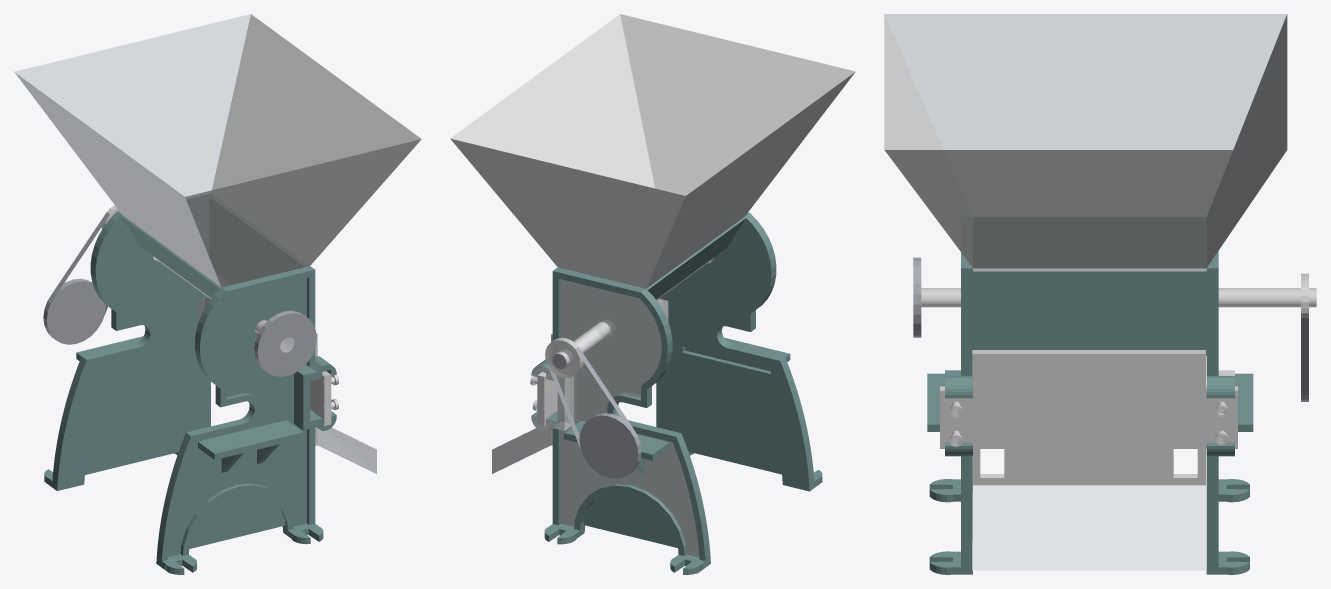
Rendered from Despulpadora.glb.
The picture shows the model from 3 angles, left to right: view 1: azimuth 30°, elevation 25°; view 2: azimuth 150°, elevation 25°; view 3: azimuth 270°, elevation 25°; orthographic projection. The views are drawn at different scales.
Parts seen in each view (by area): view 1: Node908, Node906, Node879, Node611, Node620, Node612, Node141, Node873, Node188, Node287, Node57, Node22 (+10 smaller); view 2: Node611, Node160, Node908, Node906, Node901, Node879, Node612, Node641, Node744, Node880, Node65, Node903 (+7 smaller); view 3: Node612, Node908, Node922, Node904, Node602, Node134, Node611, Node906, Node791, Node600, Node763, Node334 (+6 smaller).
Boxes of the visible parts, x1,y1,x2,y2 form: Node908: (212, 14, 421, 264); Node906: (14, 14, 250, 198); Node879: (57, 194, 210, 490); Node611: (185, 139, 421, 287); Node620: (168, 278, 306, 557); Node612: (14, 72, 220, 286); Node141: (210, 198, 303, 284); Node873: (85, 415, 181, 474); Node188: (162, 270, 315, 560); Node287: (189, 491, 285, 548); Node57: (47, 281, 105, 344); Node22: (257, 313, 316, 376); Node611: (620, 14, 855, 195); Node160: (656, 218, 809, 491); Node908: (450, 14, 654, 188); Node906: (450, 138, 685, 288); Node901: (561, 279, 699, 557); Node879: (552, 280, 698, 556); Node612: (646, 72, 855, 288); Node641: (686, 416, 781, 474); Node744: (552, 271, 705, 560); Node880: (583, 492, 677, 547); Node65: (579, 415, 638, 478); Node903: (492, 428, 550, 473); Node612: (884, 14, 1286, 216); Node908: (884, 150, 1286, 268); Node922: (940, 354, 1237, 485); Node904: (972, 485, 1205, 570); Node602: (973, 271, 1206, 355); Node134: (973, 217, 1205, 268); Node611: (884, 14, 972, 266); Node906: (1207, 14, 1287, 266); Node791: (1206, 456, 1226, 574); Node600: (953, 456, 972, 574); Node763: (1206, 268, 1218, 375); Node334: (961, 268, 972, 375).
Size of the model in its own units: 15.75 by 25.2 by 21.12.
